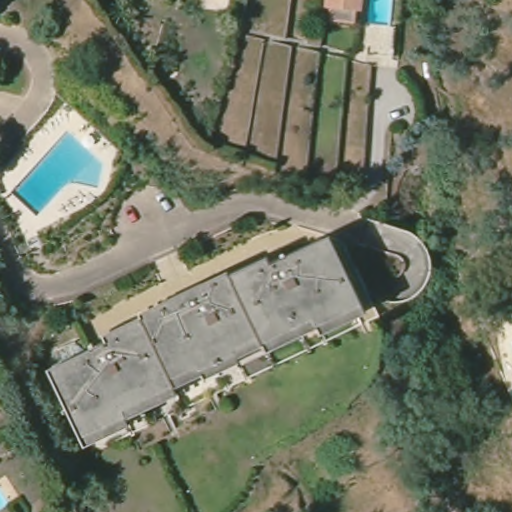pool: (9, 131, 104, 214), (366, 1, 401, 30)
